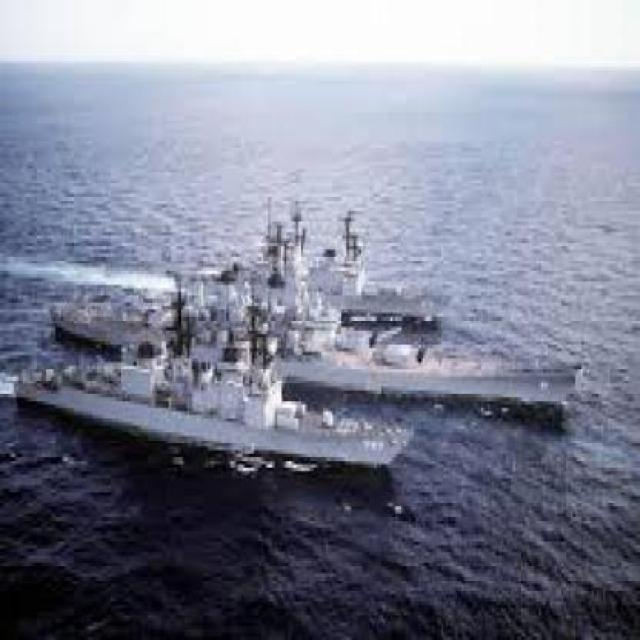warship2: (45, 240, 588, 434), (12, 335, 410, 496), (181, 205, 444, 325)
